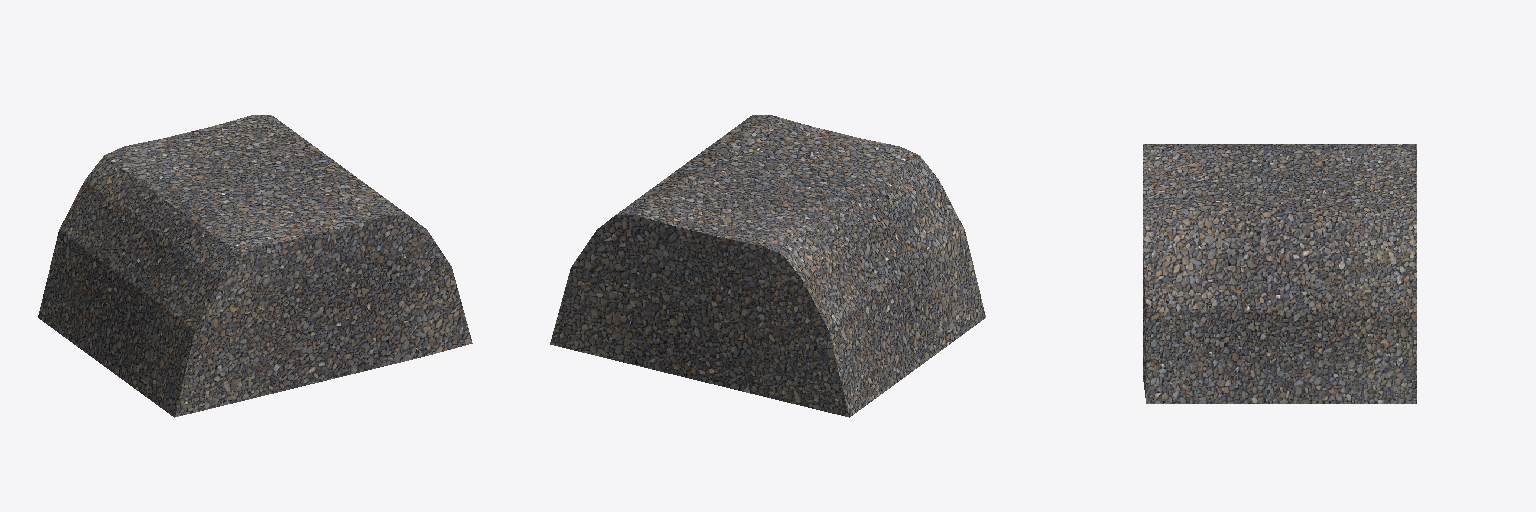
3 views of the same model, side by side, from view 1: azimuth 30°, elevation 25°; view 2: azimuth 150°, elevation 25°; view 3: azimuth 270°, elevation 25° (orthographic).
Parts seen in each view (by area): view 1: RailBed; view 2: RailBed; view 3: RailBed.
Boxes of the visible parts, box(x1,y1,x2,y2) form: RailBed: box(38, 115, 472, 417); RailBed: box(550, 115, 985, 417); RailBed: box(1143, 144, 1416, 403).
Size of the model in its own units: 4.54 by 2.18 by 3.58.
1 materials, 1 textured.